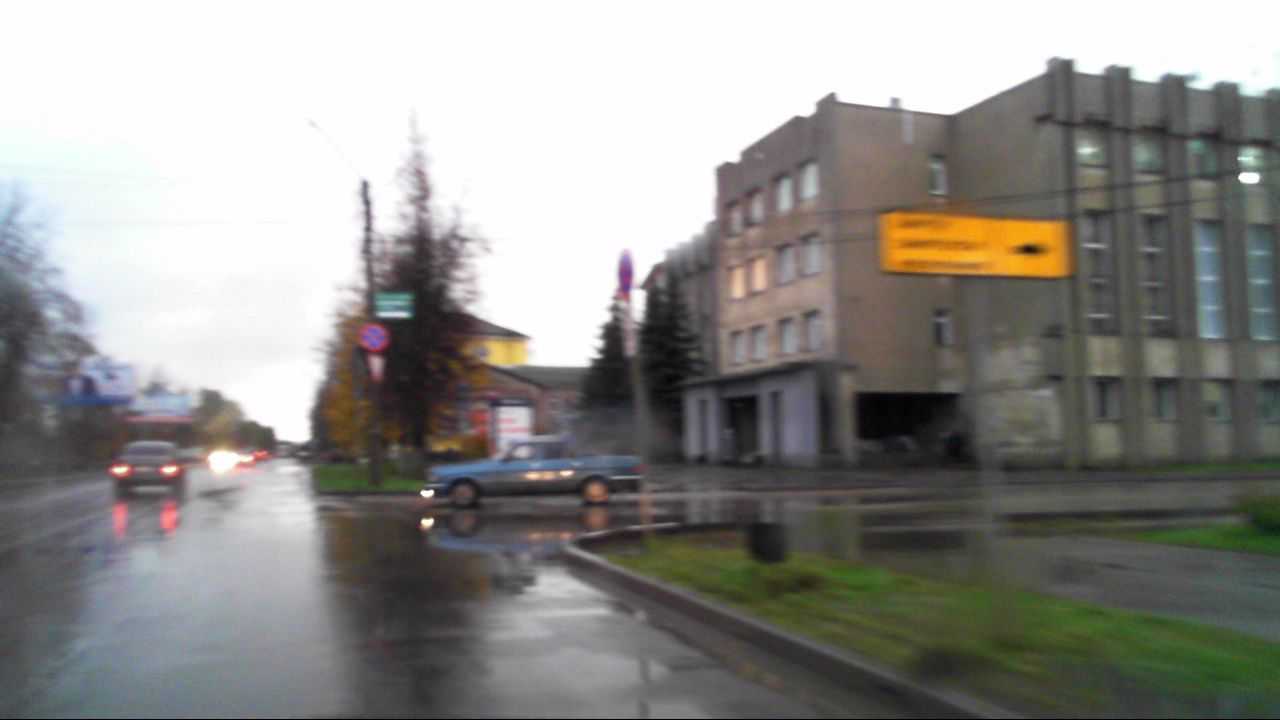No Parking: (357, 321, 389, 351)
